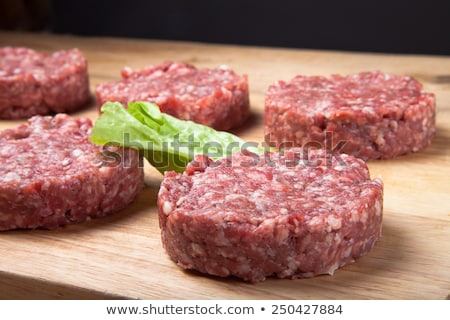ground_beef: (156, 140, 374, 278), (1, 101, 168, 239), (258, 65, 439, 161), (85, 57, 266, 138)
